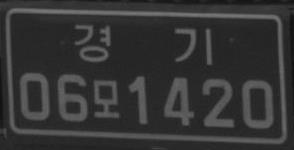0: (241, 78, 274, 129), (18, 72, 50, 121)
1: (126, 75, 154, 125)
2: (200, 76, 235, 128)
4: (162, 75, 195, 127)
6: (56, 73, 88, 122)
경기_D: (73, 24, 213, 66)
모: (92, 78, 120, 119)
